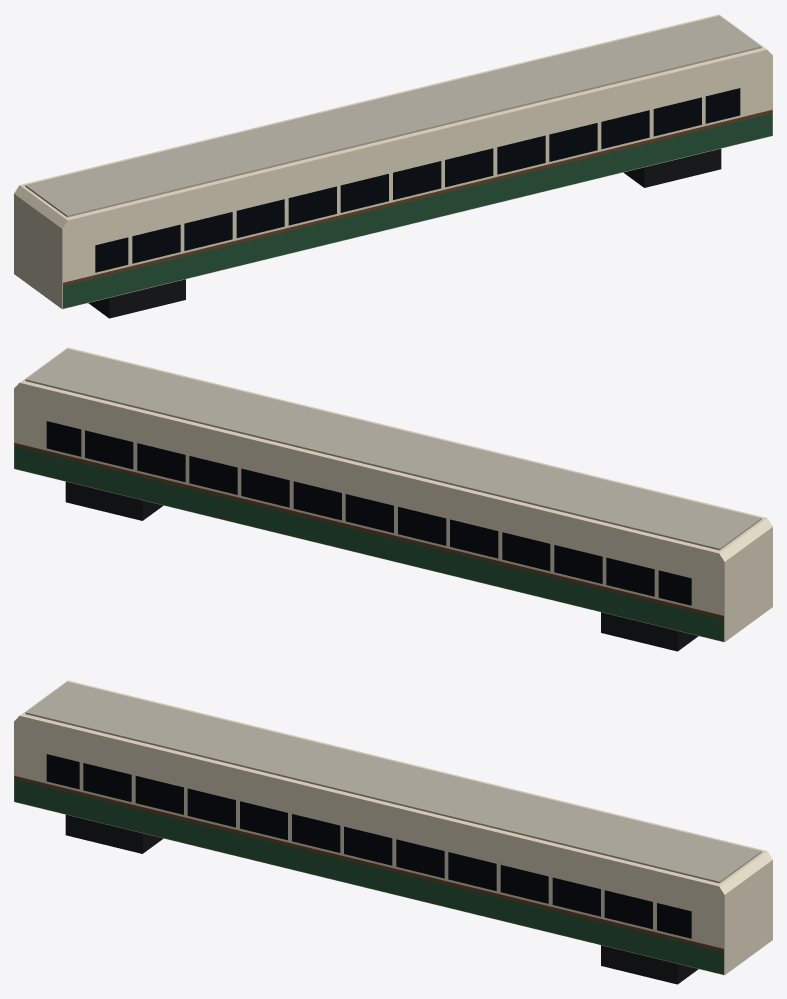
Rendered from coach-cascades.glb.
The picture shows the model from 3 angles, top to bottom: view 1: azimuth 30°, elevation 25°; view 2: azimuth 150°, elevation 25°; view 3: azimuth 330°, elevation 25°; orthographic projection.
Parts seen in each view (by area): view 1: coach; view 2: coach; view 3: coach.
Part boxes in pixels (x1,y1,x2,y2): coach: (14, 14, 772, 318); coach: (14, 347, 772, 651); coach: (14, 680, 772, 984).
Size of the model in its own units: 25.9 by 3.91 by 3.08.
